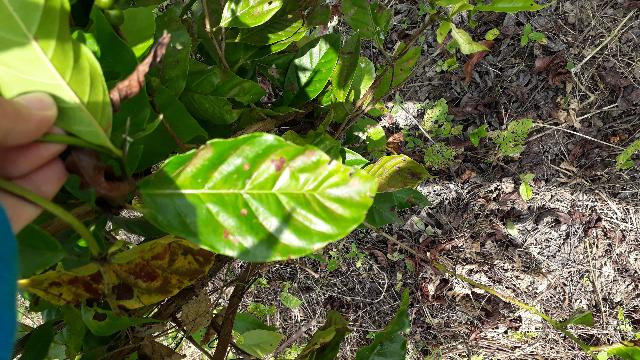red_spider_mite: (135, 134, 378, 261)
